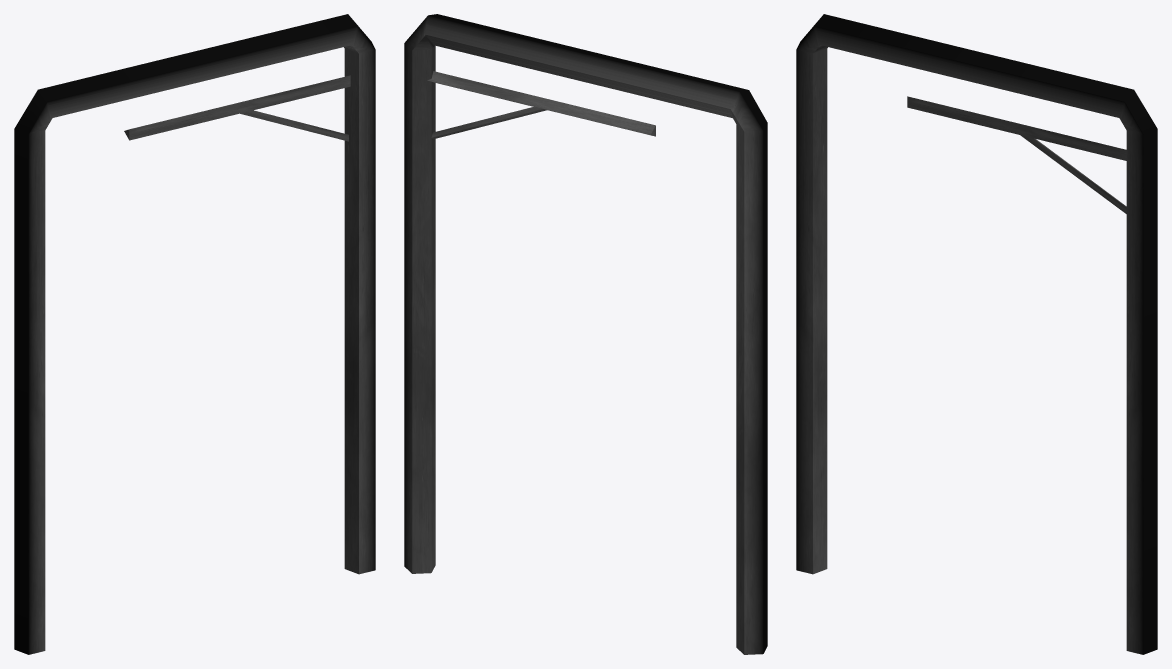
File: KASENCHU_TOB_1RAIL_PIPE.glb
3 renders of one model, left to right at view 1: azimuth 30°, elevation 25°; view 2: azimuth 150°, elevation 25°; view 3: azimuth 330°, elevation 25°, orthographic.
Visible parts, largest first — view 1: Mesh1; view 2: Mesh1; view 3: Mesh1.
Part boxes in pixels (x1,y1,x2,y2): Mesh1: [14, 14, 375, 654]; Mesh1: [404, 14, 767, 654]; Mesh1: [796, 14, 1157, 654].
Bounding box in the file's own units: 11.52 × 17.07 × 0.8336.
Materials: 1 (1 with a texture image).
